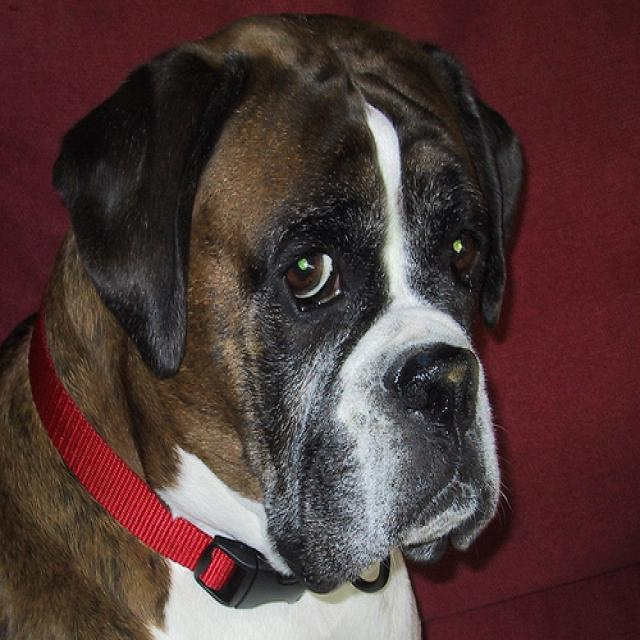dog-boxer: (1, 5, 534, 637)
